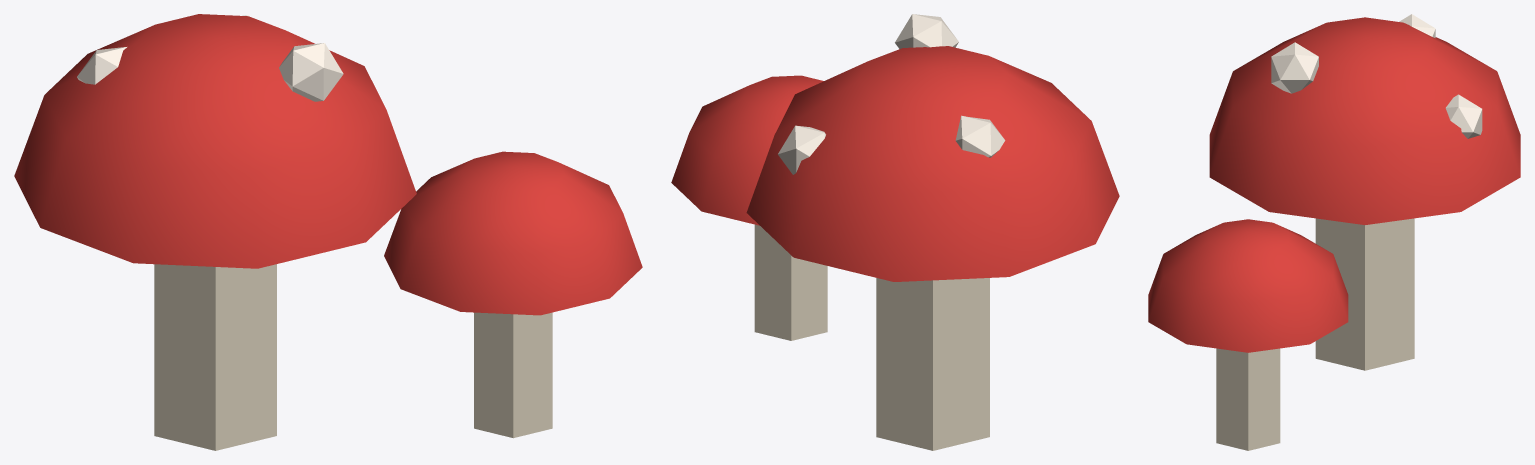
File: mushrooms.glb
3 renders of one model, left to right at view 1: azimuth 30°, elevation 25°; view 2: azimuth 150°, elevation 25°; view 3: azimuth 270°, elevation 25°, orthographic. The views are drawn at different scales.
Visible parts, largest first — view 1: mushrooms; view 2: mushrooms; view 3: mushrooms.
Part boxes in pixels (x1,y1,x2,y2): mushrooms: [14, 14, 642, 450]; mushrooms: [671, 14, 1119, 450]; mushrooms: [1148, 14, 1520, 450].
Bounding box in the file's own units: 0.205 × 0.1502 × 0.1594.
